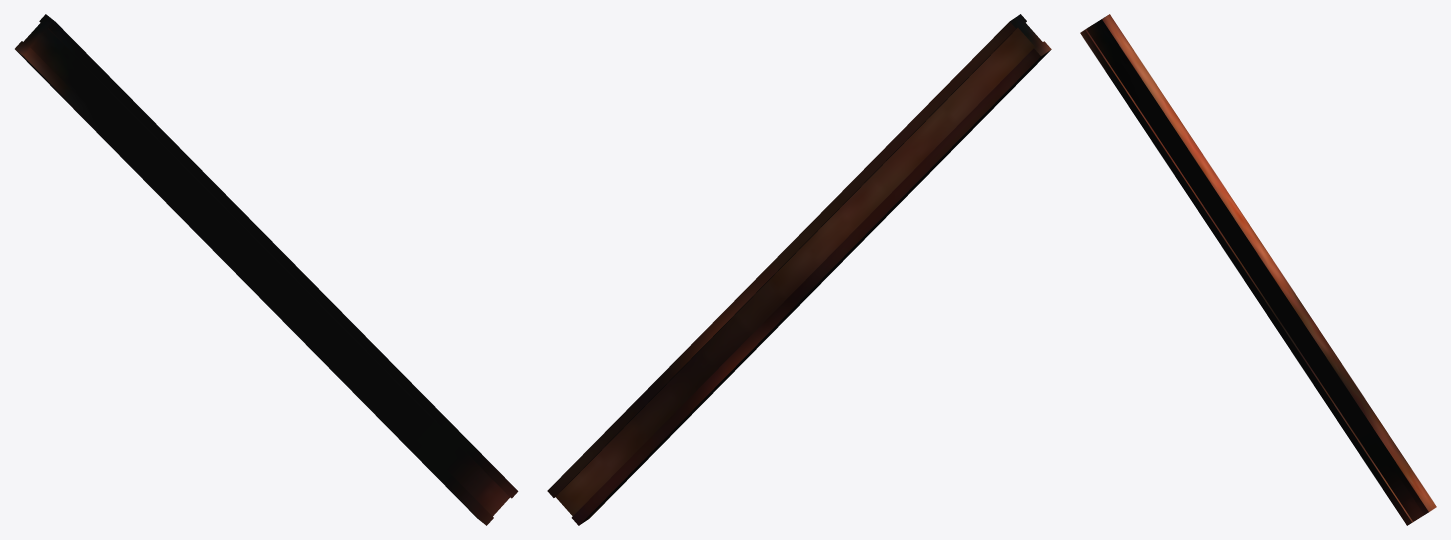
Rendered from hasigo3.obj.
The picture shows the model from 3 angles, left to right: view 1: azimuth 30°, elevation 25°; view 2: azimuth 150°, elevation 25°; view 3: azimuth 330°, elevation 25°; orthographic projection. The views are drawn at different scales.
Size of the model in its own units: 6.18 by 7.28 by 0.2454.
1 material, 1 textured.
